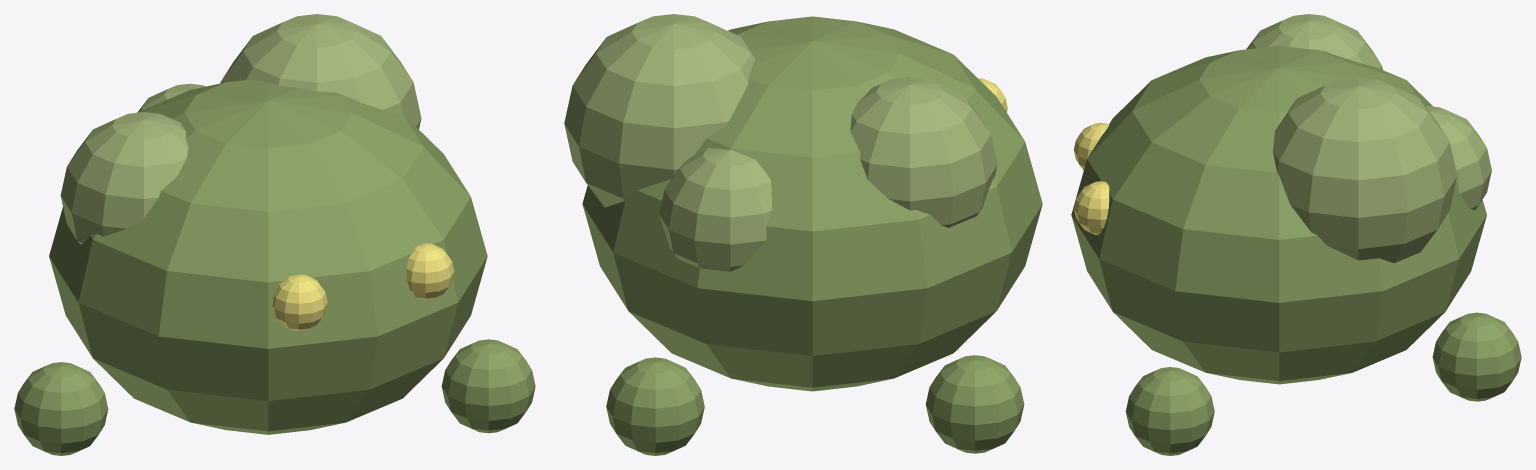
Rendered from creature_blob_swamp.glb.
3 views of the same model, side by side, from view 1: azimuth 30°, elevation 25°; view 2: azimuth 150°, elevation 25°; view 3: azimuth 270°, elevation 25° (orthographic). The views are drawn at different scales.
Visible parts, largest first — view 1: creature_blob_swamp; view 2: creature_blob_swamp; view 3: creature_blob_swamp.
Boxes of the visible parts, x1,y1,x2,y2 form: creature_blob_swamp: [14, 14, 535, 455]; creature_blob_swamp: [564, 14, 1042, 455]; creature_blob_swamp: [1071, 14, 1521, 455].
Bounding box in the file's own units: 1.27 × 1 × 1.23.
